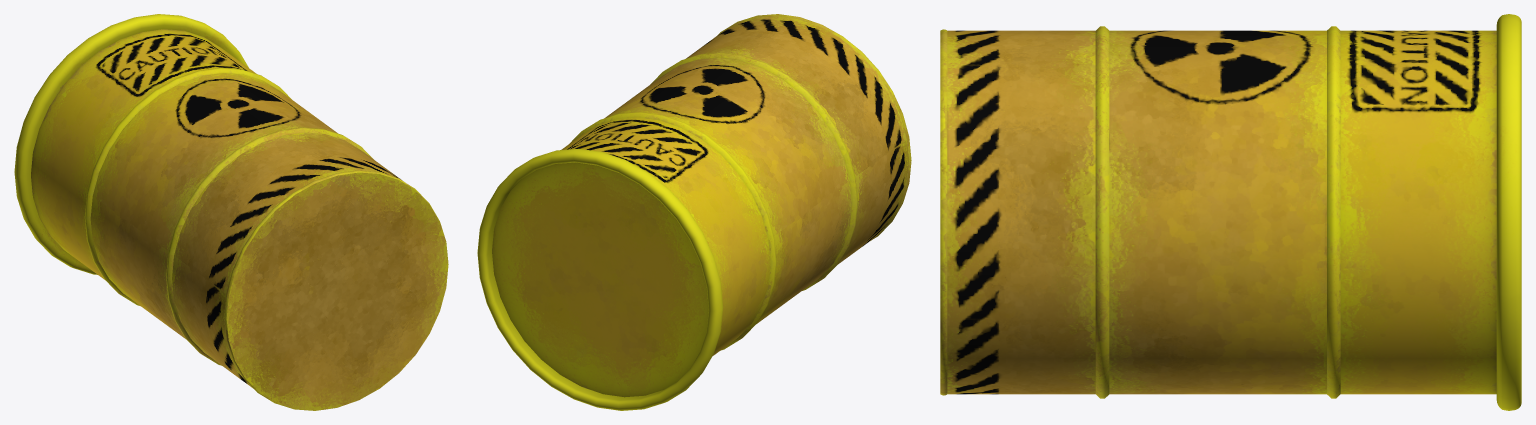
The model's file is Barril.fbx.
The picture shows the model from 3 angles, left to right: view 1: azimuth 30°, elevation 25°; view 2: azimuth 150°, elevation 25°; view 3: azimuth 270°, elevation 25°; orthographic projection. The views are drawn at different scales.
Visible parts, largest first — view 1: Cylinder.011; view 2: Cylinder.011; view 3: Cylinder.011.
Part boxes in pixels (x1=…): Cylinder.011: x1=14, y1=14, x2=448, y2=410; Cylinder.011: x1=477, y1=14, x2=911, y2=410; Cylinder.011: x1=940, y1=14, x2=1521, y2=410.
Size of the model in its own units: 8.25 by 8.25 by 12.07.
